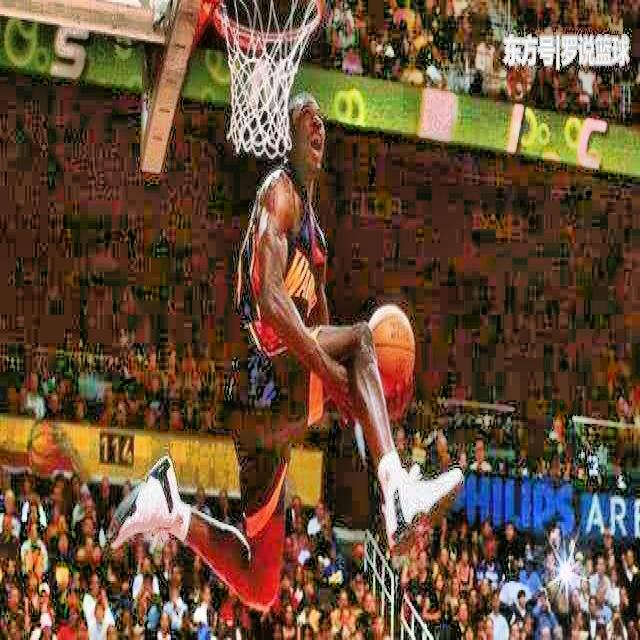board: (371, 304, 416, 397)
rim: (208, 0, 324, 163)
